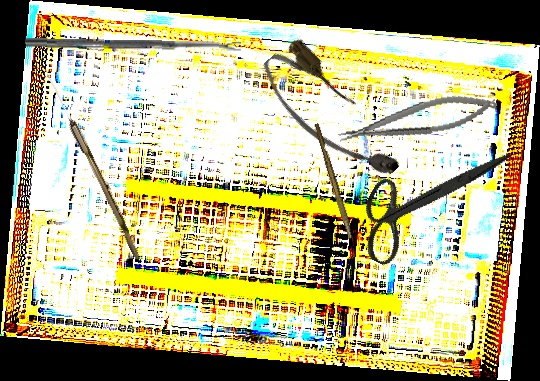Cannula: (252, 33, 409, 199)
Iris Scissors: (343, 105, 512, 295)
Needle Holder: (335, 88, 499, 150)
Scalpel Handle: (311, 122, 357, 240)
Surgical Spoon: (42, 72, 145, 260), (24, 38, 242, 52)
